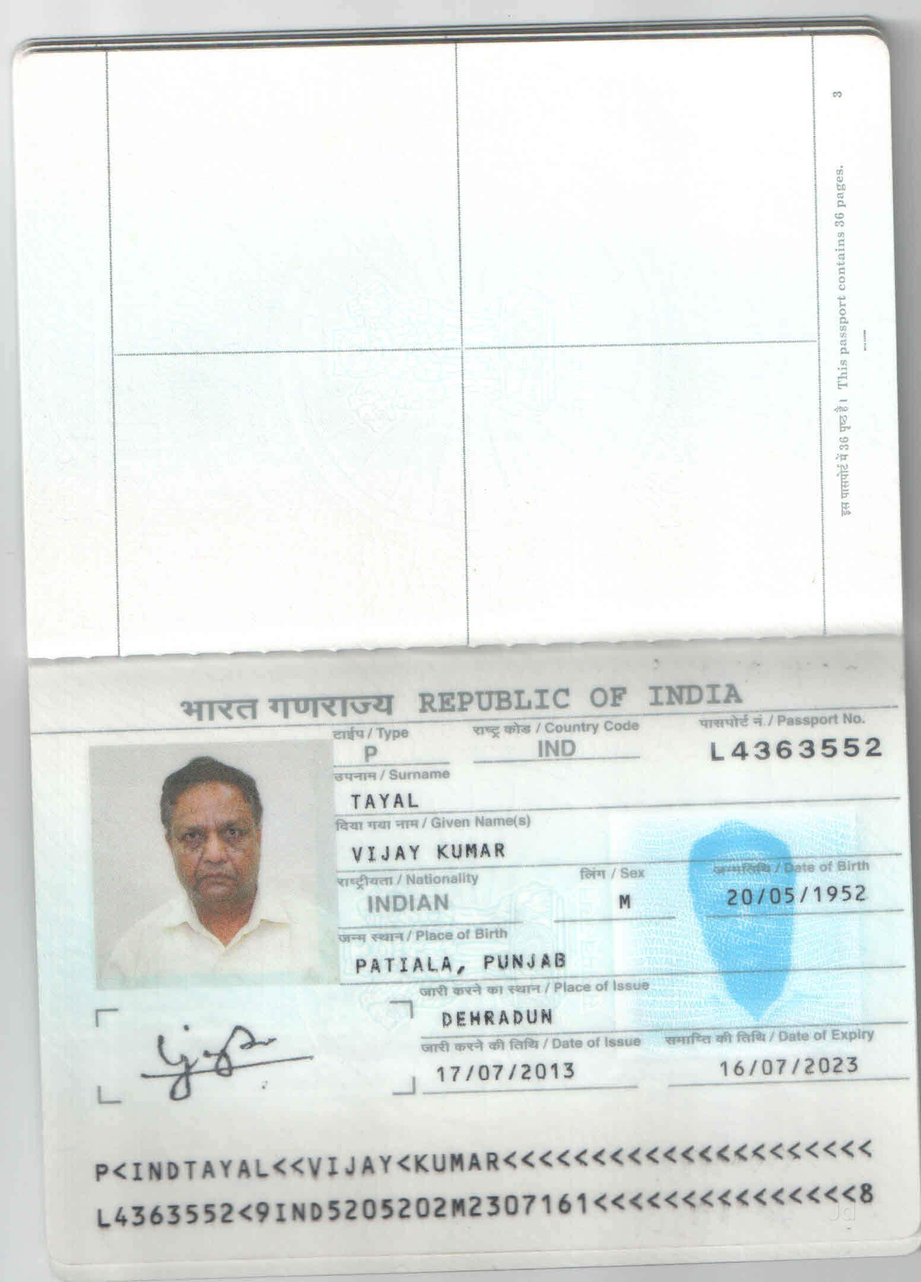DOB: (718, 880, 883, 920)
Surname: (330, 783, 433, 817)
country_code: (528, 732, 593, 763)
date_of_expiry: (708, 1049, 874, 1086)
date_of_issue: (418, 1055, 584, 1090)
details: (68, 1131, 897, 1240)
name: (344, 827, 519, 870)
nationality: (355, 889, 461, 918)
passport_no: (693, 731, 893, 766)
photo: (87, 744, 337, 991)
place_of_birth: (345, 940, 589, 980)
place_of_issue: (429, 1000, 563, 1037)
sex: (605, 883, 648, 921)
sign: (129, 1015, 332, 1113)
type: (353, 739, 393, 770)
